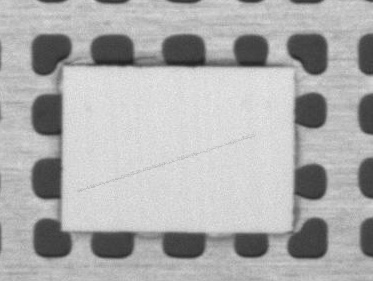DIE_CRACK: (104, 102, 338, 144)
